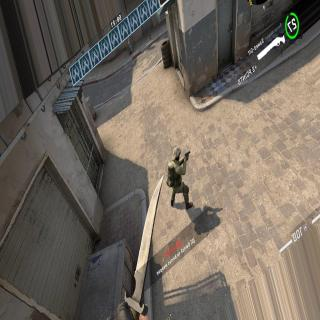CT-Body: (164, 145, 192, 197)
CT-Head: (172, 147, 182, 162)
